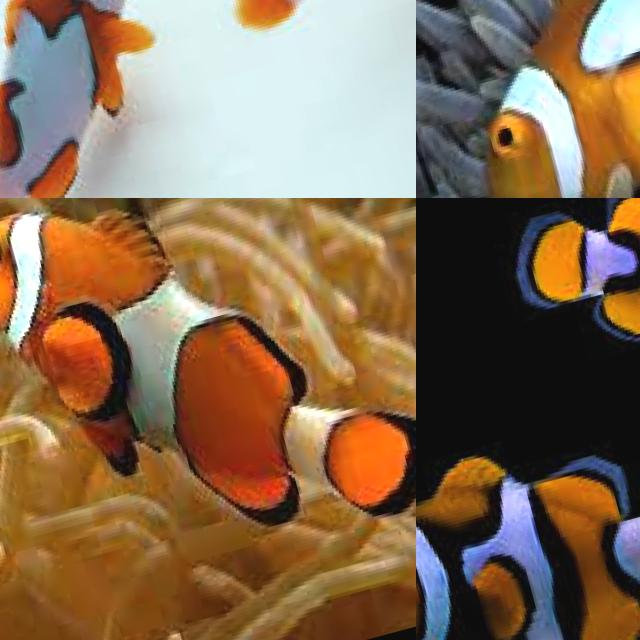Amphiprion-percula: (0, 198, 416, 635), (416, 363, 640, 640), (416, 0, 640, 198), (469, 198, 640, 454), (184, 0, 416, 182), (0, 0, 213, 198)
